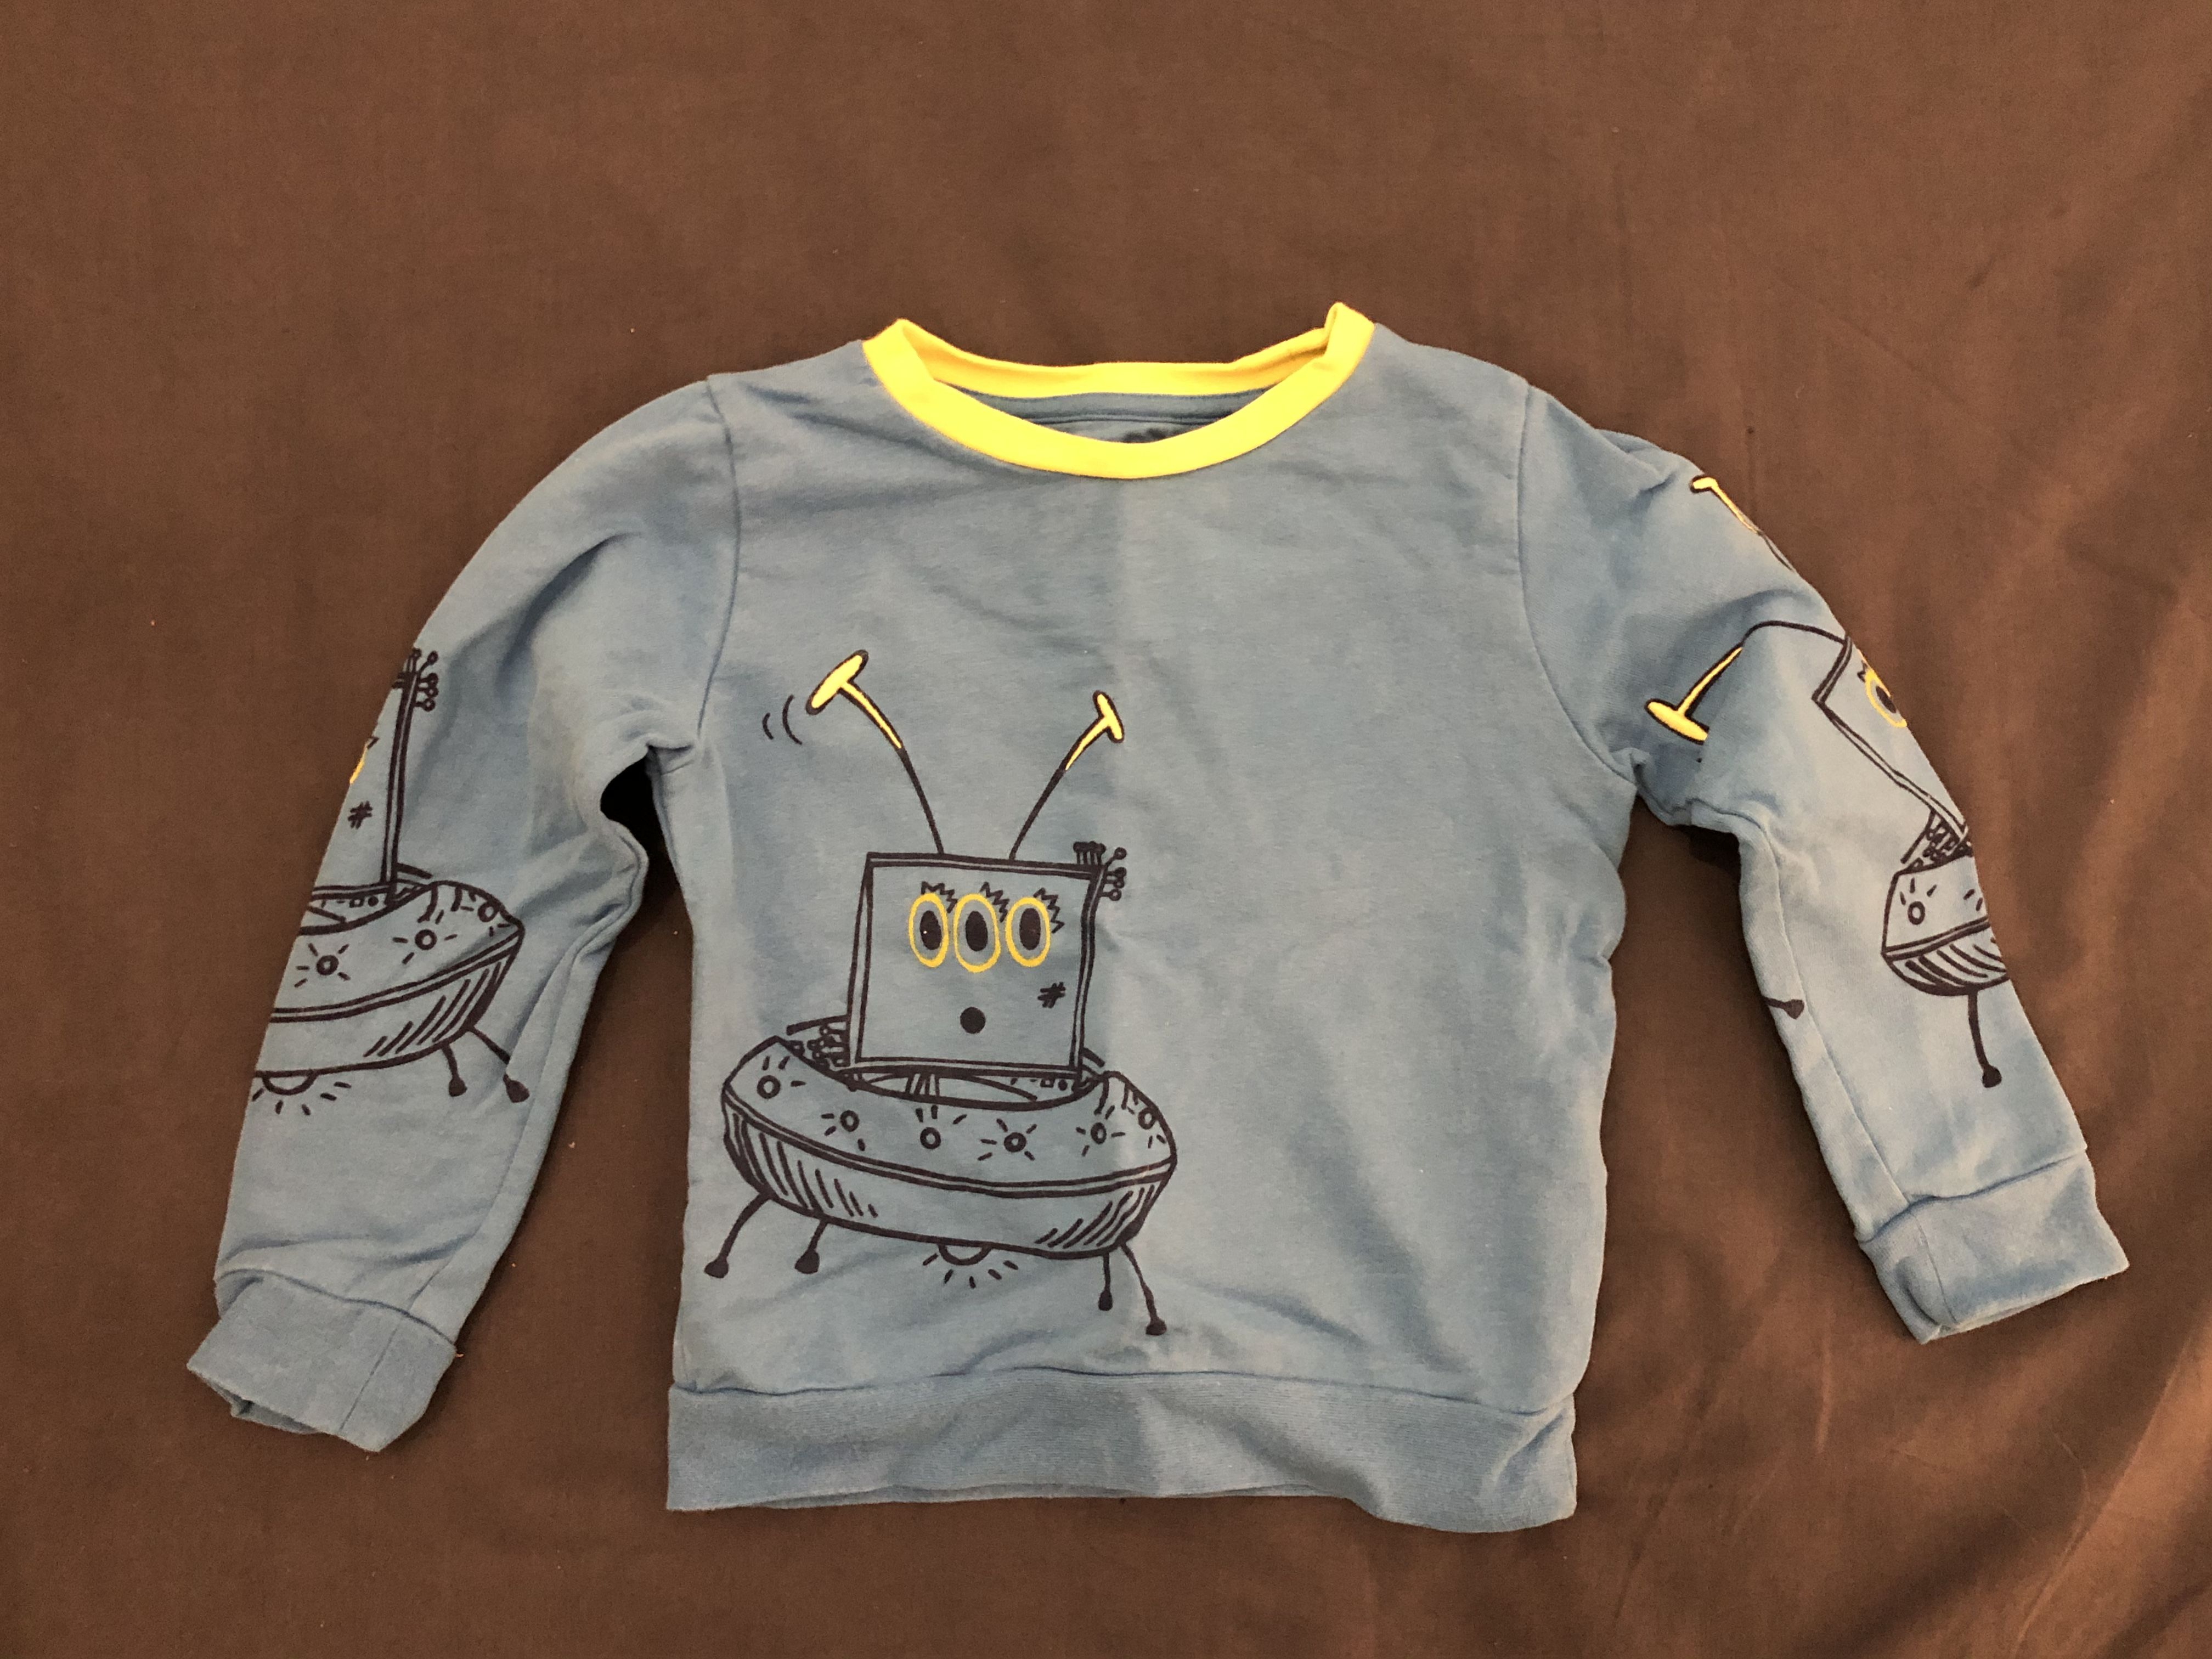clothes: (190, 275, 2146, 1534)
